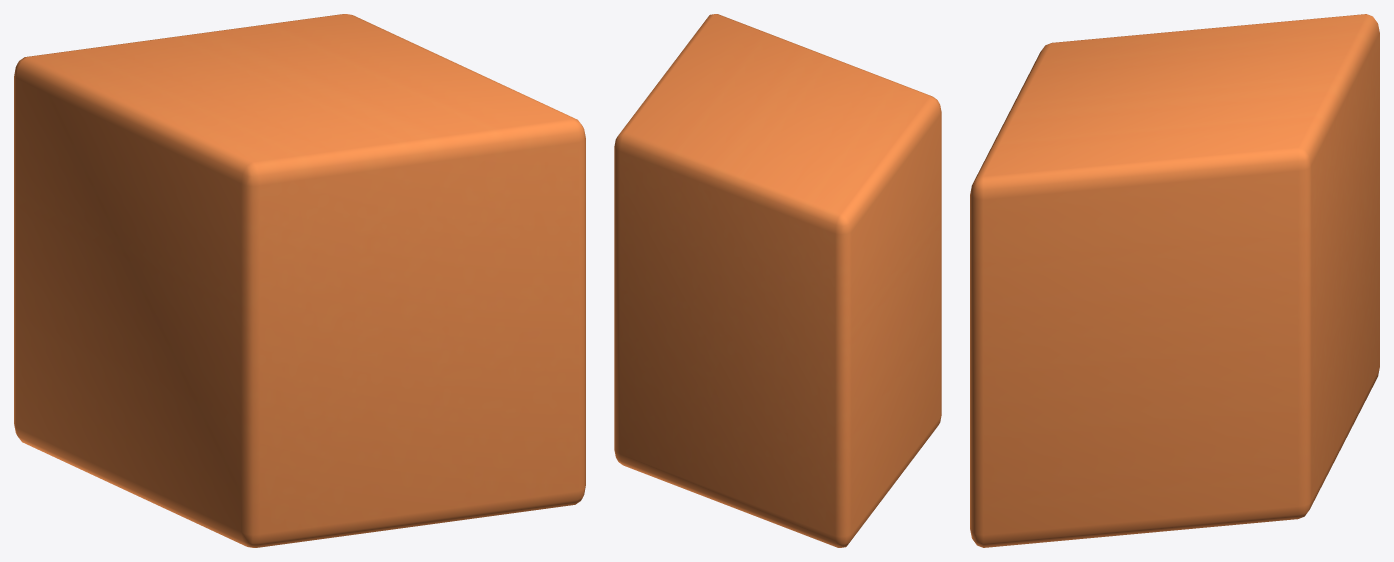
File: RhombusBig_1.fbx
The picture shows the model from 3 angles, left to right: view 1: azimuth 30°, elevation 25°; view 2: azimuth 150°, elevation 25°; view 3: azimuth 270°, elevation 25°; orthographic projection. The views are drawn at different scales.
Visible parts, largest first — view 1: Cube.010; view 2: Cube.010; view 3: Cube.010.
Part boxes in pixels (bbox=[...]): Cube.010: bbox=[14, 14, 585, 547]; Cube.010: bbox=[614, 14, 941, 547]; Cube.010: bbox=[970, 14, 1379, 547].
Bounding box in the file's own units: 400 × 400 × 400.
